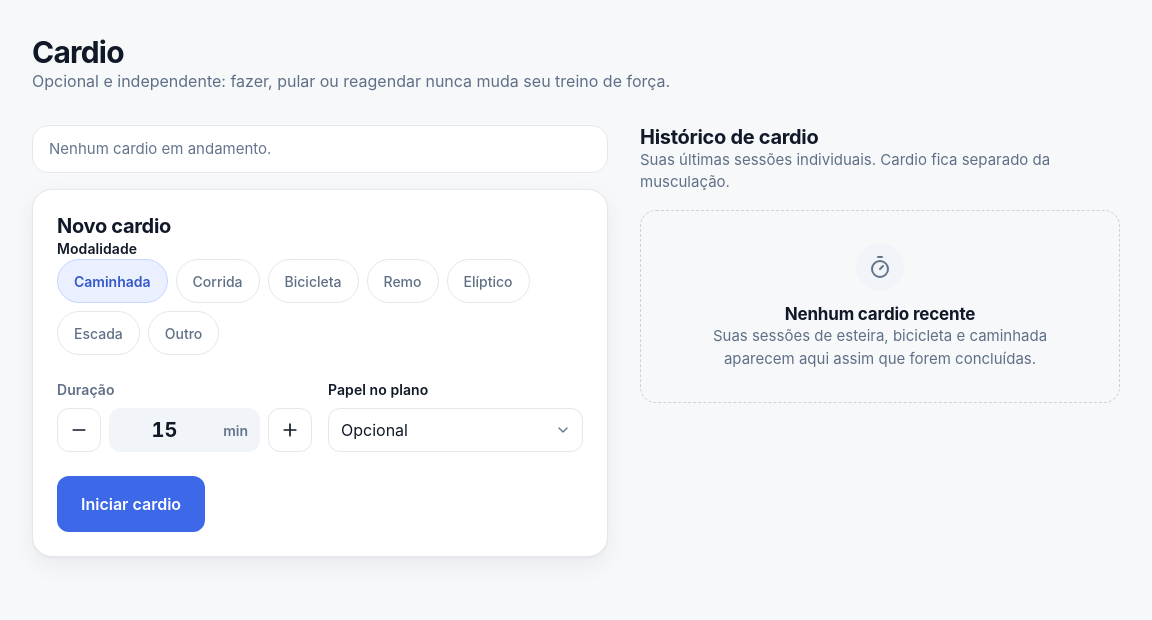
Scenario: CardioPageClient › reschedules a pending cardio without completing it
Step 1. Click the button "Iniciar cardio" → [131, 504], box [57,476,205,532]
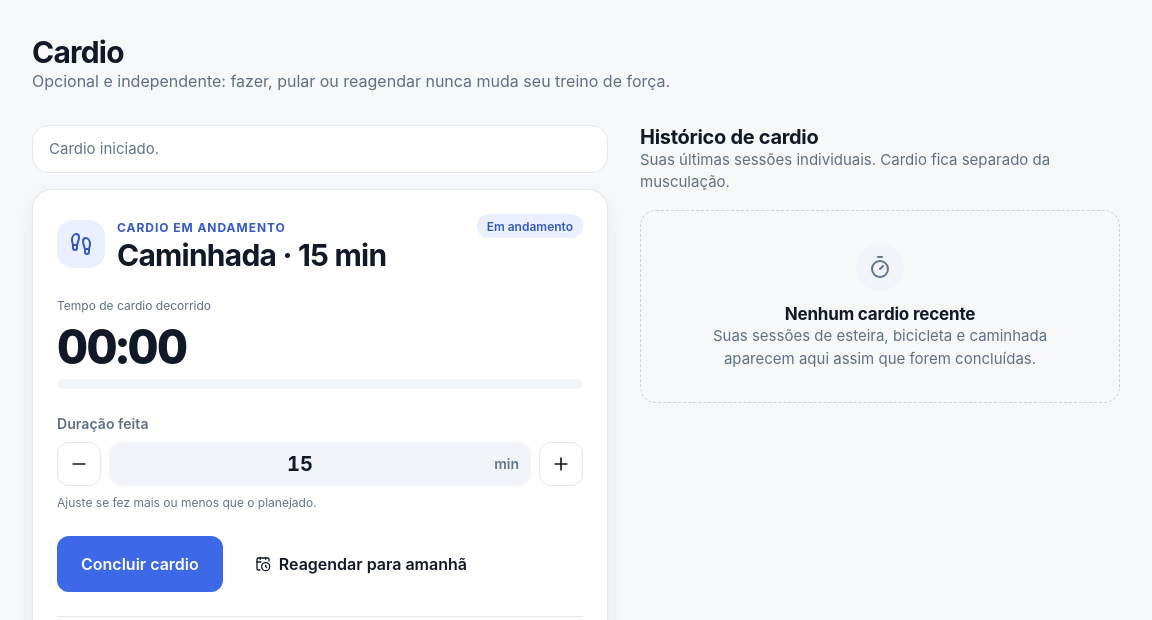
Expected: the button "Reagendar para amanhã" is shown
Step 2. Click the button "Reagendar para amanhã" → [361, 564], box [231,536,491,592]
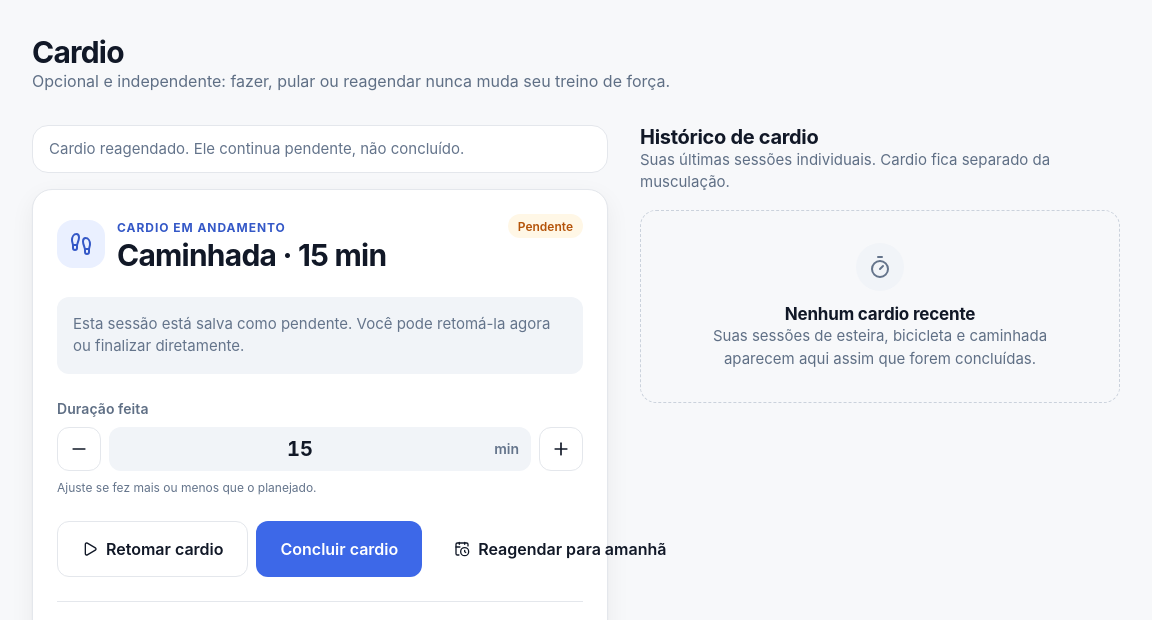
Expected: the text "Cardio reagendado. Ele continua pendente, não concluído." is shown, [32,125,608,174]
